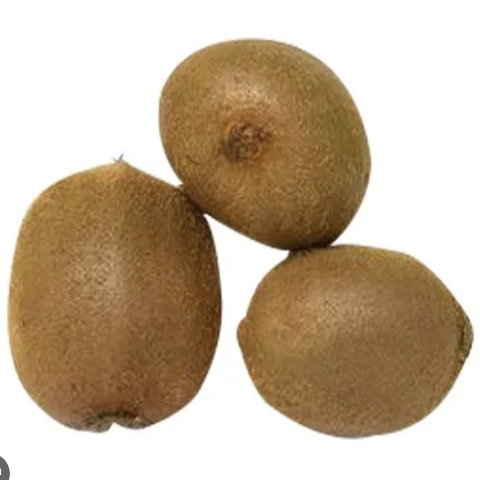kiwi: (0, 139, 232, 459), (142, 21, 394, 270), (224, 245, 473, 464)
